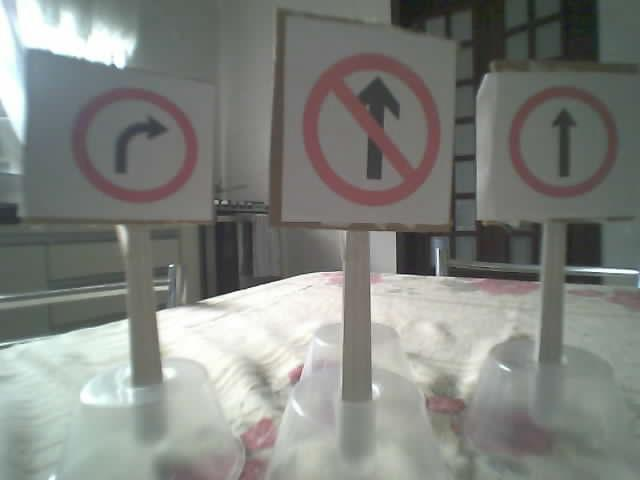R-25b_direita: (70, 86, 197, 204)
R-26_frente: (508, 86, 616, 197)
R-3_sentido-proibido: (302, 53, 440, 206)
